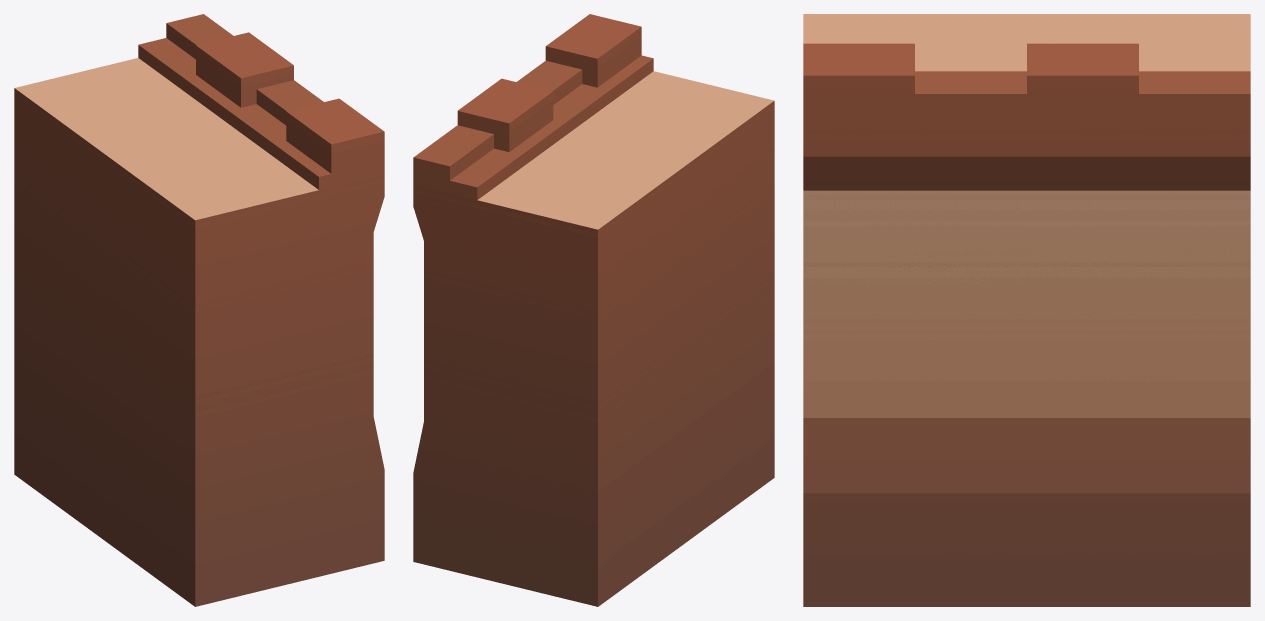
Rendered from wall-half-modular.glb.
3 renders of one model, left to right at view 1: azimuth 30°, elevation 25°; view 2: azimuth 150°, elevation 25°; view 3: azimuth 270°, elevation 25°, orthographic. The views are drawn at different scales.
Visible parts, largest first — view 1: wall-half-modular; view 2: wall-half-modular; view 3: wall-half-modular.
Part boxes in pixels (<box>): wall-half-modular: <box>14,14,384,606</box>; wall-half-modular: <box>413,14,774,606</box>; wall-half-modular: <box>803,14,1250,606</box>.
Bounding box in the file's own units: 1.81 × 3.93 × 3.
1 material, 1 textured.
